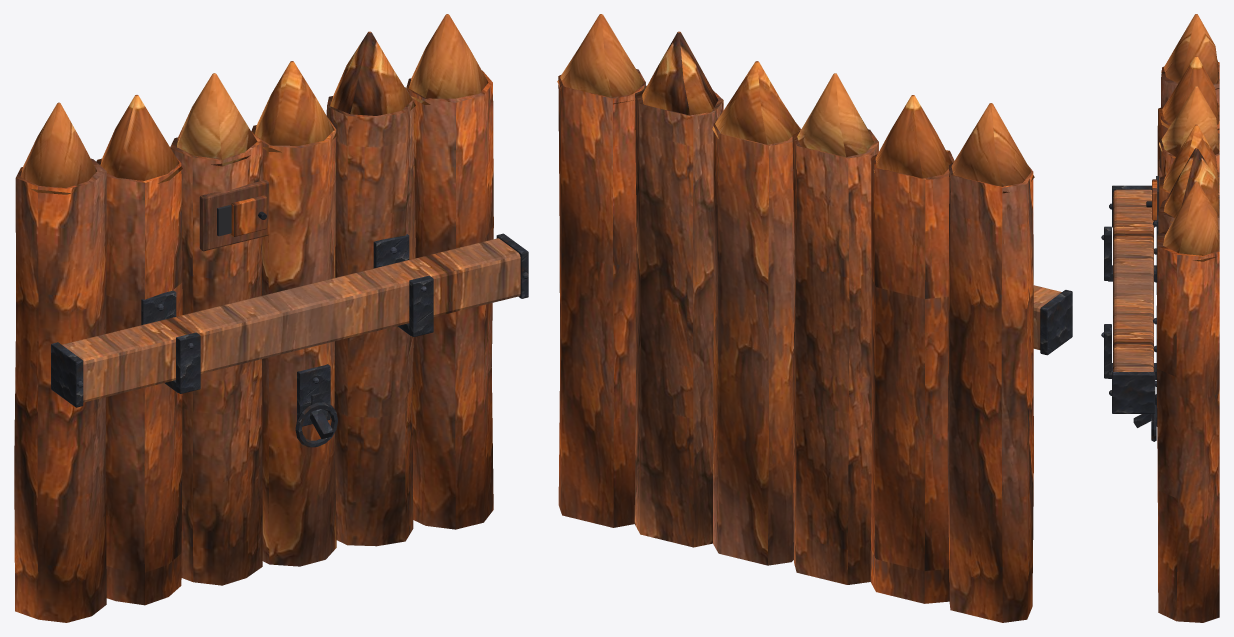
File: ro_gate_bar_brackets.glb
The picture shows the model from 3 angles, left to right: view 1: azimuth 30°, elevation 25°; view 2: azimuth 150°, elevation 25°; view 3: azimuth 270°, elevation 25°; orthographic projection. The views are drawn at different scales.
Visible parts, largest first — view 1: model; view 2: model; view 3: model.
Part boxes in pixels (bbox=[...]): model: bbox=[14, 14, 528, 622]; model: bbox=[557, 14, 1072, 622]; model: bbox=[1101, 14, 1219, 622].
Bounding box in the file's own units: 1.81 × 1.85 × 0.4605.
Materials: 13 (12 with a texture image).
